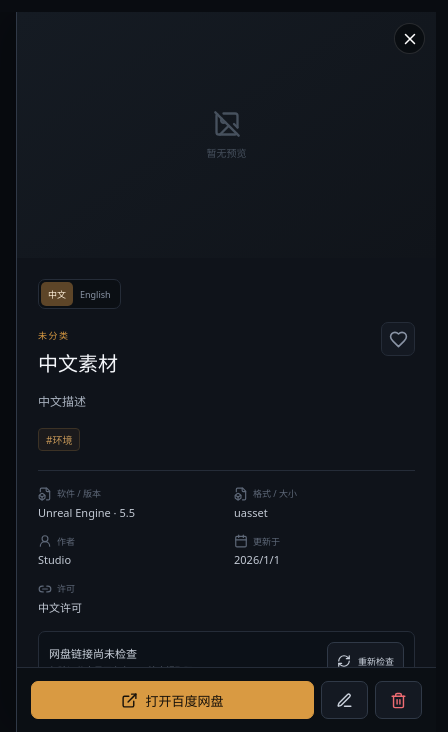
Test: DetailPanel bilingual content › temporarily switches detail content without changing the global preference
Expected: the heading "中文素材" is shown, [38,350,118,377]
What coordinates should you click on to do the following:
click the button "English"
I would click on:
 (95, 294)
Its box is [73,282,118,306].
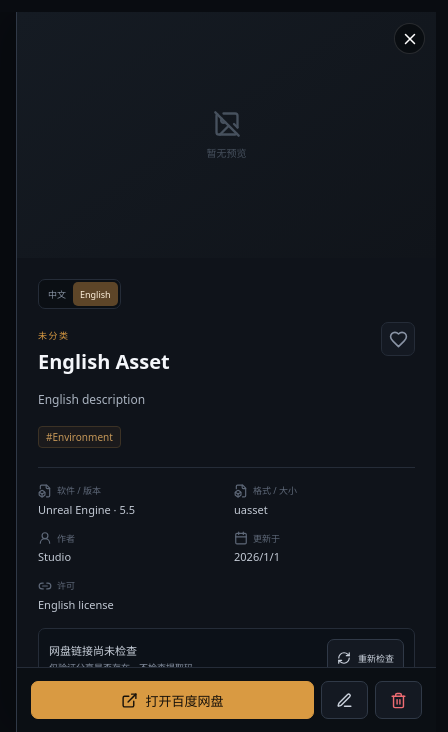
Expected: the heading "English Asset" is shown, [38,348,170,375]
Expected: the text "English description" is shown, [38,391,145,408]
